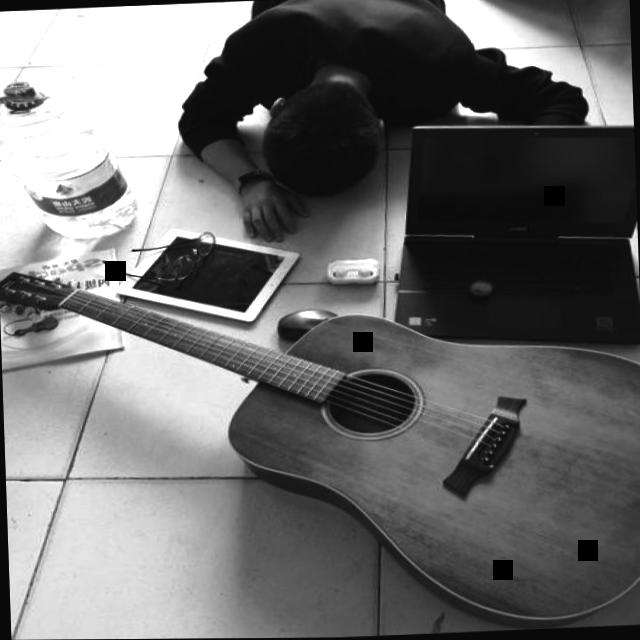Fall-Detected: (160, 0, 583, 245)
